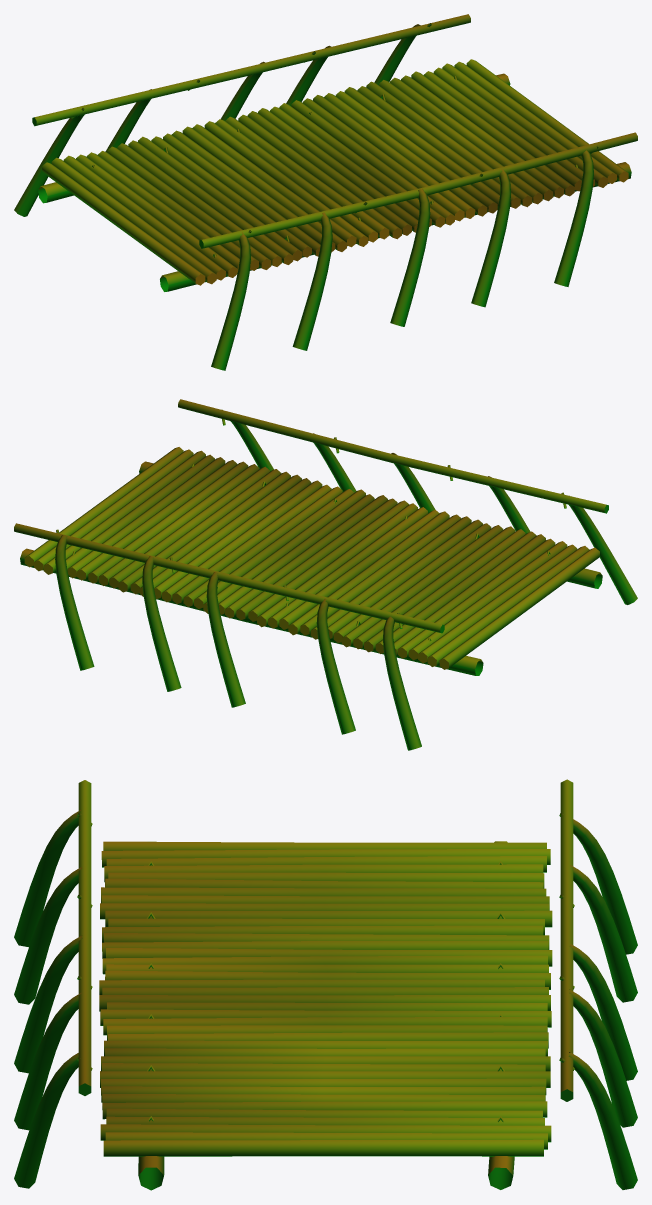
Rendered from root_walk_6m.glb.
3 views of the same model, one above another, from view 1: azimuth 30°, elevation 25°; view 2: azimuth 150°, elevation 25°; view 3: azimuth 270°, elevation 25° (orthographic). The views are drawn at different scales.
Parts seen in each view (by area): view 1: root_walk_6m; view 2: root_walk_6m; view 3: root_walk_6m.
Boxes of the visible parts, x1=… form: root_walk_6m: x1=14, y1=14, x2=637, y2=370; root_walk_6m: x1=14, y1=399, x2=637, y2=750; root_walk_6m: x1=14, y1=779, x2=637, y2=1190.
Size of what is drawn, in the model's own units: 6.41 by 1.55 by 5.18.
